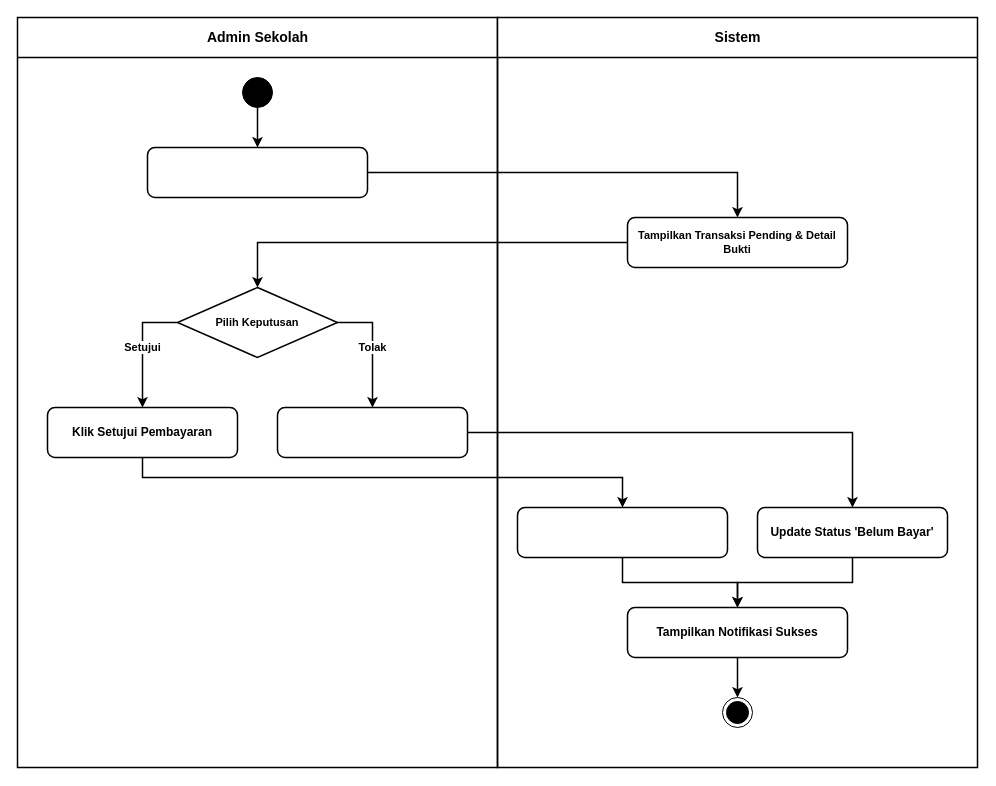
The diagram is 996 pixels wide and 786 high, and some of its shapes have lost their labels. The centre of each missing label's shape, as x and y in pixels:
Klik Tolak Pembayaran: (x=372, y=432)
Pilih Menu Verifikasi Pembayaran: (x=257, y=172)
Update Status 'Lunas' & Record Keuangan: (x=622, y=532)
